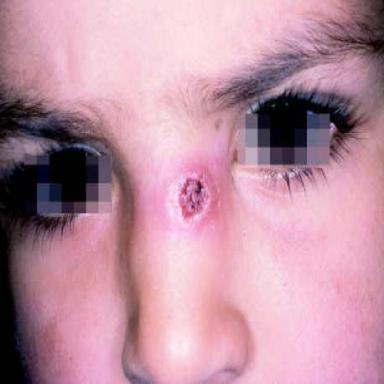Leishmanios: (167, 172, 218, 225)
